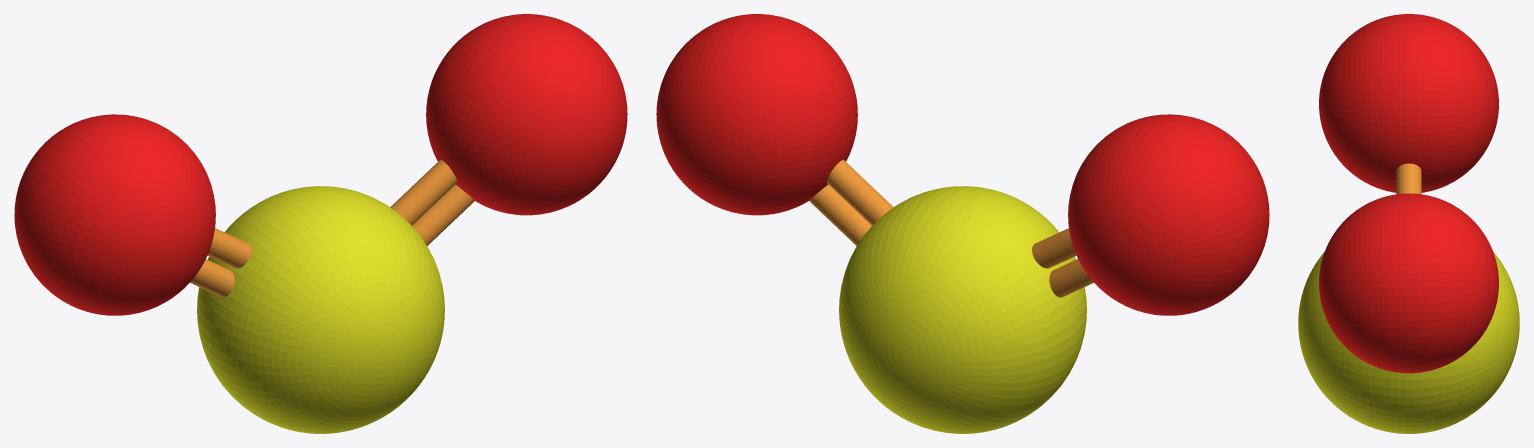
The model's file is sulfur_dioxide.glb.
3 renders of one model, left to right at view 1: azimuth 30°, elevation 25°; view 2: azimuth 150°, elevation 25°; view 3: azimuth 270°, elevation 25°, orthographic. The views are drawn at different scales.
Visible parts, largest first — view 1: Sulfur_S, Oxygen_O_Left, Oxygen_O_Right, S-O_Right_Double_A, S-O_Right_Double_B, S-O_Left_Double_A, S-O_Left_Double_B; view 2: Sulfur_S, Oxygen_O_Left, Oxygen_O_Right, S-O_Right_Double_A, S-O_Right_Double_B, S-O_Left_Double_A, S-O_Left_Double_B; view 3: Oxygen_O_Right, Oxygen_O_Left, Sulfur_S, S-O_Left_Double_A.
Boxes of the visible parts, bbox=[...] form: Sulfur_S: bbox=[197, 186, 444, 433]; Oxygen_O_Left: bbox=[14, 114, 215, 315]; Oxygen_O_Right: bbox=[426, 14, 627, 215]; S-O_Right_Double_A: bbox=[390, 159, 457, 225]; S-O_Right_Double_B: bbox=[412, 184, 474, 245]; S-O_Left_Double_A: bbox=[207, 228, 251, 268]; S-O_Left_Double_B: bbox=[190, 259, 234, 297]; Sulfur_S: bbox=[839, 186, 1086, 433]; Oxygen_O_Left: bbox=[1068, 114, 1269, 315]; Oxygen_O_Right: bbox=[656, 14, 857, 215]; S-O_Right_Double_A: bbox=[826, 159, 893, 225]; S-O_Right_Double_B: bbox=[809, 184, 871, 245]; S-O_Left_Double_A: bbox=[1032, 228, 1076, 268]; S-O_Left_Double_B: bbox=[1049, 259, 1093, 297]; Oxygen_O_Right: bbox=[1319, 193, 1498, 373]; Oxygen_O_Left: bbox=[1319, 14, 1498, 192]; Sulfur_S: bbox=[1298, 252, 1519, 433]; S-O_Left_Double_A: bbox=[1396, 163, 1421, 194].
Bounding box in the file's own units: 2.15 × 1.22 × 0.7872.
